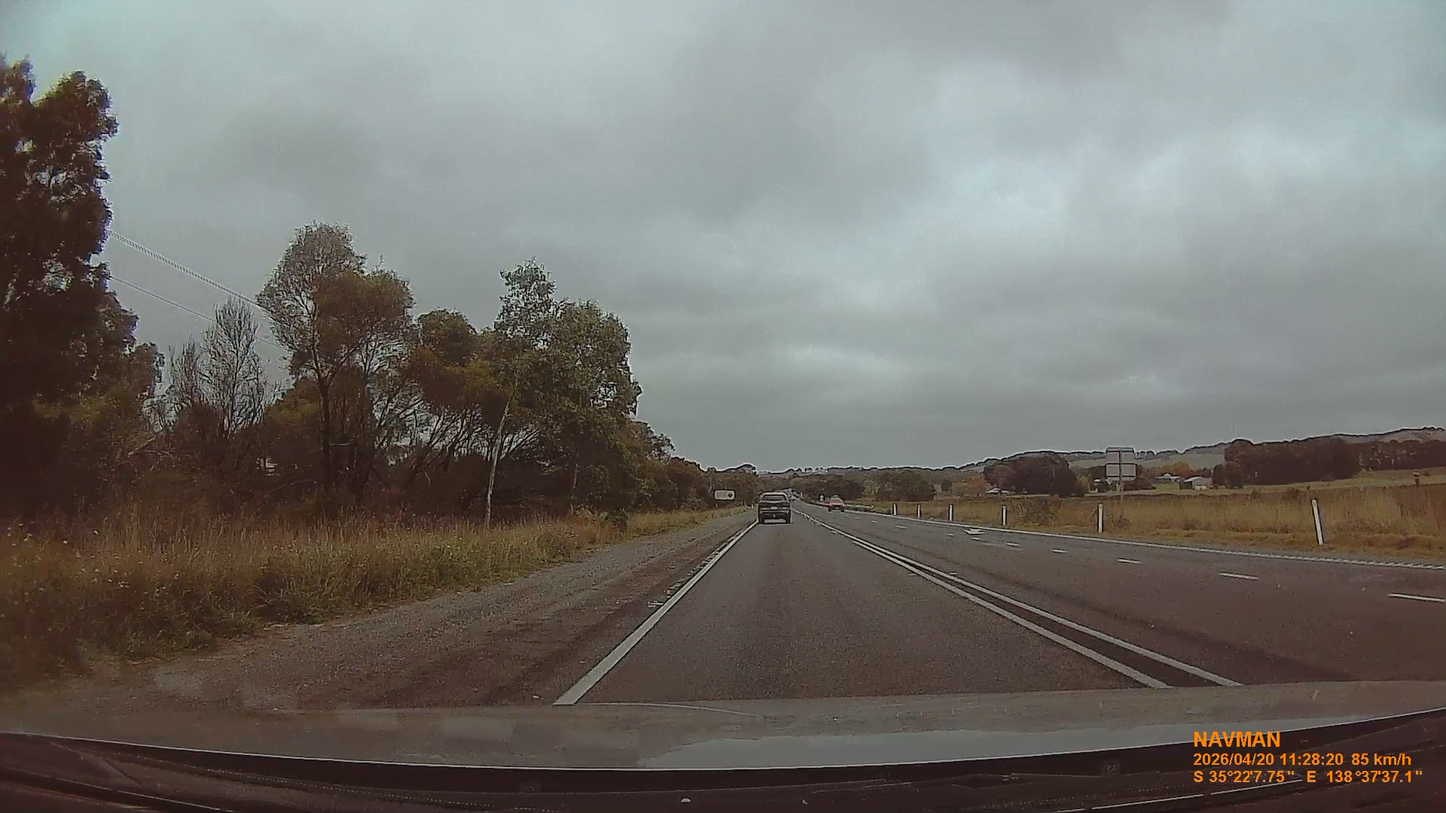road barriers: (841, 504, 874, 511)
